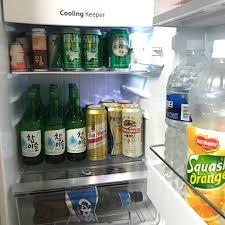soju: (17, 80, 85, 162)
